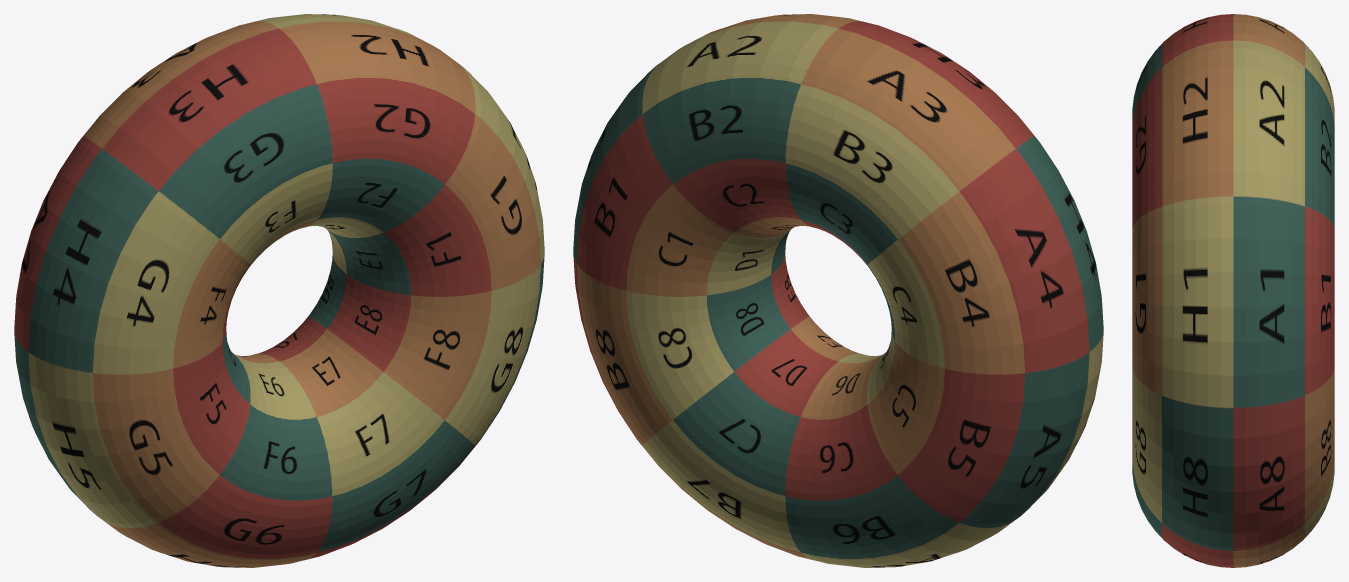
Rendered from texture_torus_R11_r30.glb.
3 views of the same model, side by side, from view 1: azimuth 30°, elevation 25°; view 2: azimuth 150°, elevation 25°; view 3: azimuth 270°, elevation 25° (orthographic). The views are drawn at different scales.
Parts seen in each view (by area): view 1: world; view 2: world; view 3: world.
Part boxes in pixels (x1,y1,x2,y2): world: (14, 14, 544, 567); world: (573, 14, 1103, 567); world: (1132, 14, 1334, 567).
Bounding box in the file's own units: 27.33 × 27.28 × 9.98.
Materials: 1 (1 with a texture image).
